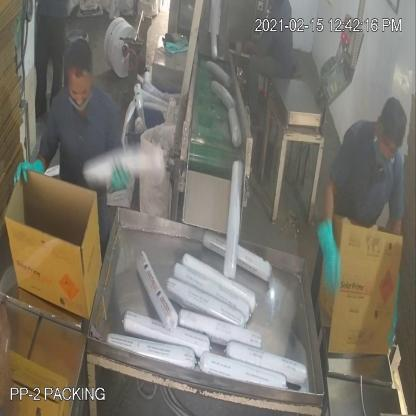glove: (312, 208, 347, 299)
